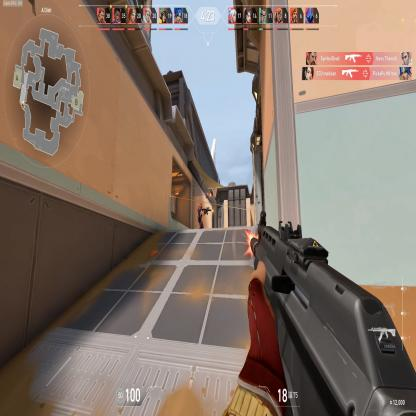enemy: (197, 202, 208, 229)
